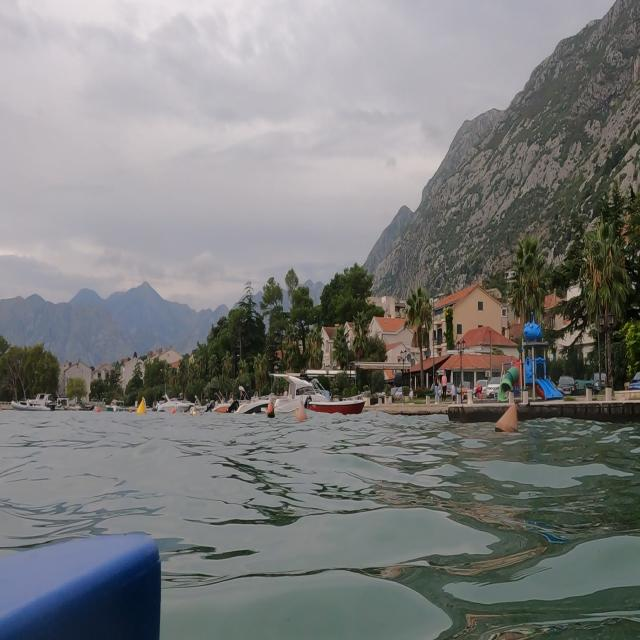boat: (276, 358, 379, 424), (155, 386, 224, 426), (9, 386, 73, 424), (230, 382, 272, 422)
buoy: (493, 397, 528, 442), (294, 399, 314, 427), (134, 396, 152, 416)
